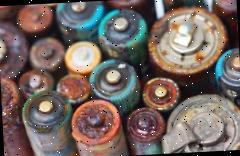electronic: (84, 60, 143, 107)
